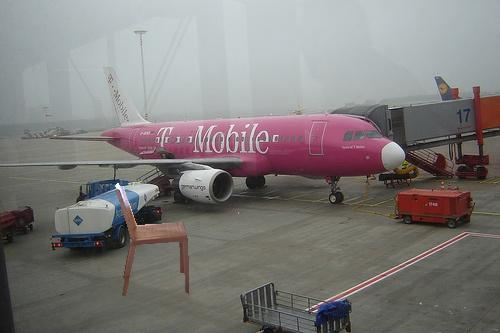tampered: (116, 184, 189, 296)
